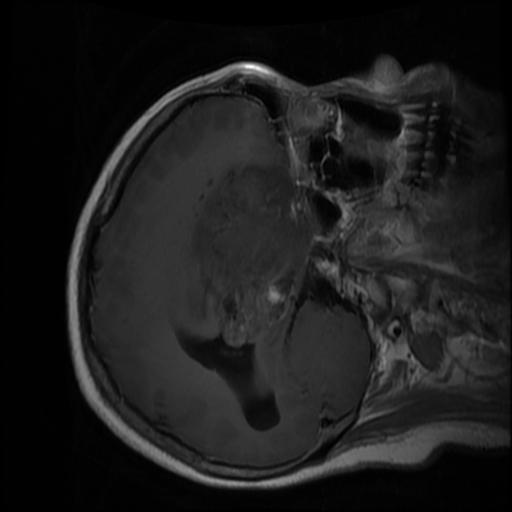glioma: (195, 168, 312, 346)
